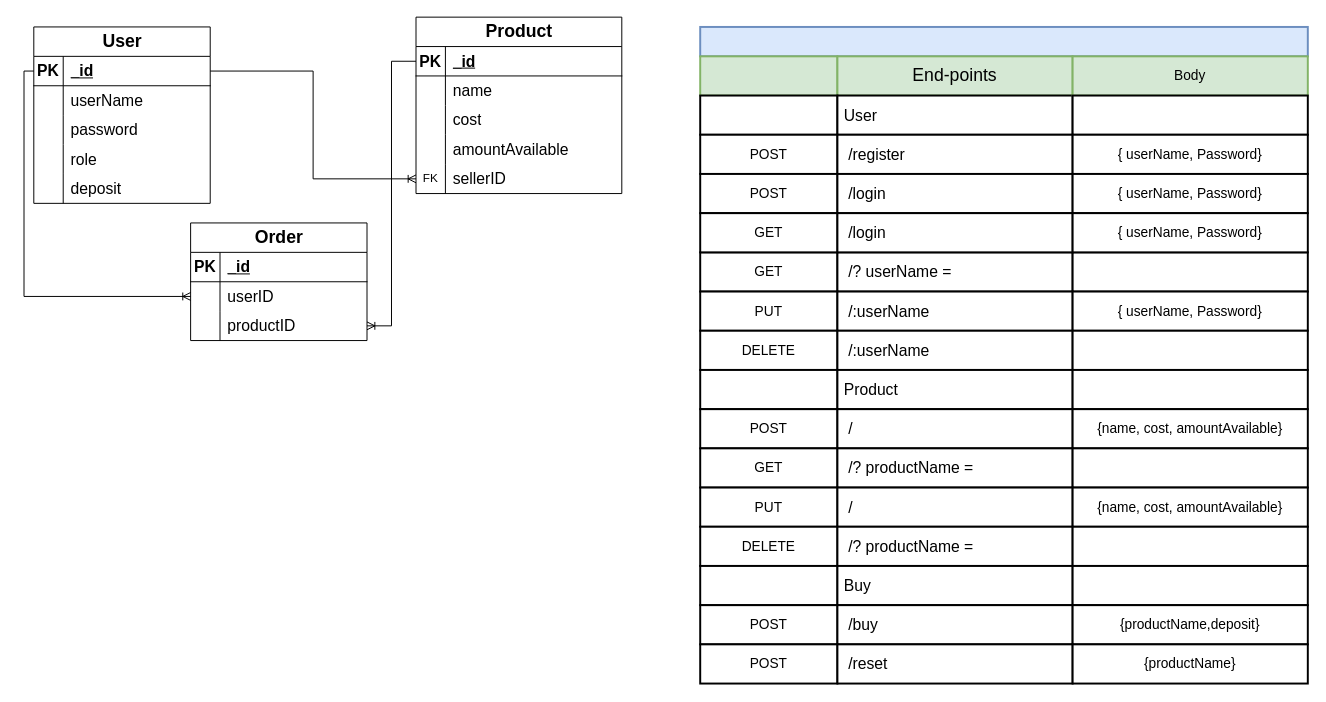
The diagram is 1326 pixels wide and 702 high, and some of its shapes have lost their labels. Here are the shapes that lost their labels. From the top down, the centre of each, then its label:
At point 1003,41: "REST APIs".
At point 768,75: "Operation".
